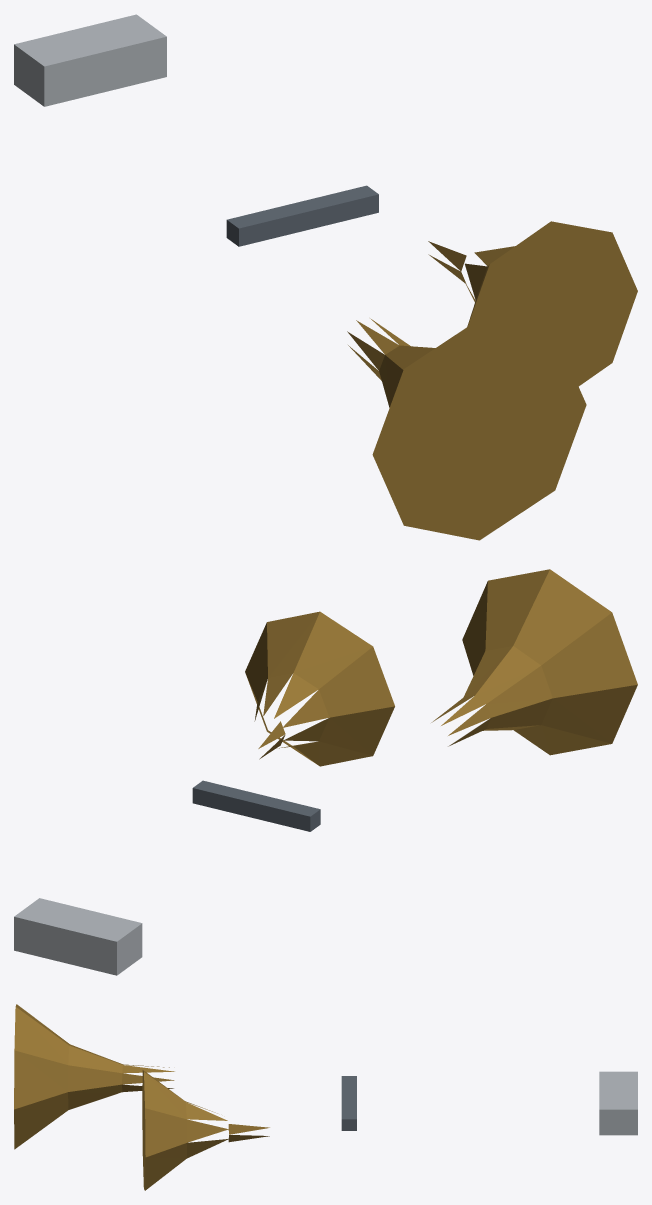
Rendered from chindinkalu-horn.lod.glb.
The picture shows the model from 3 angles, top to bottom: view 1: azimuth 30°, elevation 25°; view 2: azimuth 150°, elevation 25°; view 3: azimuth 270°, elevation 25°; orthographic projection. The views are drawn at different scales.
Parts seen in each view (by area): view 1: m; view 2: m; view 3: m.
Boxes of the visible parts, left/top/right/bottom form: m: left=14, top=14, right=637, bottom=540; m: left=14, top=569, right=637, bottom=975; m: left=14, top=1004, right=637, bottom=1190.
Bounding box in the file's own units: 0.198 × 0.1143 × 0.46.
